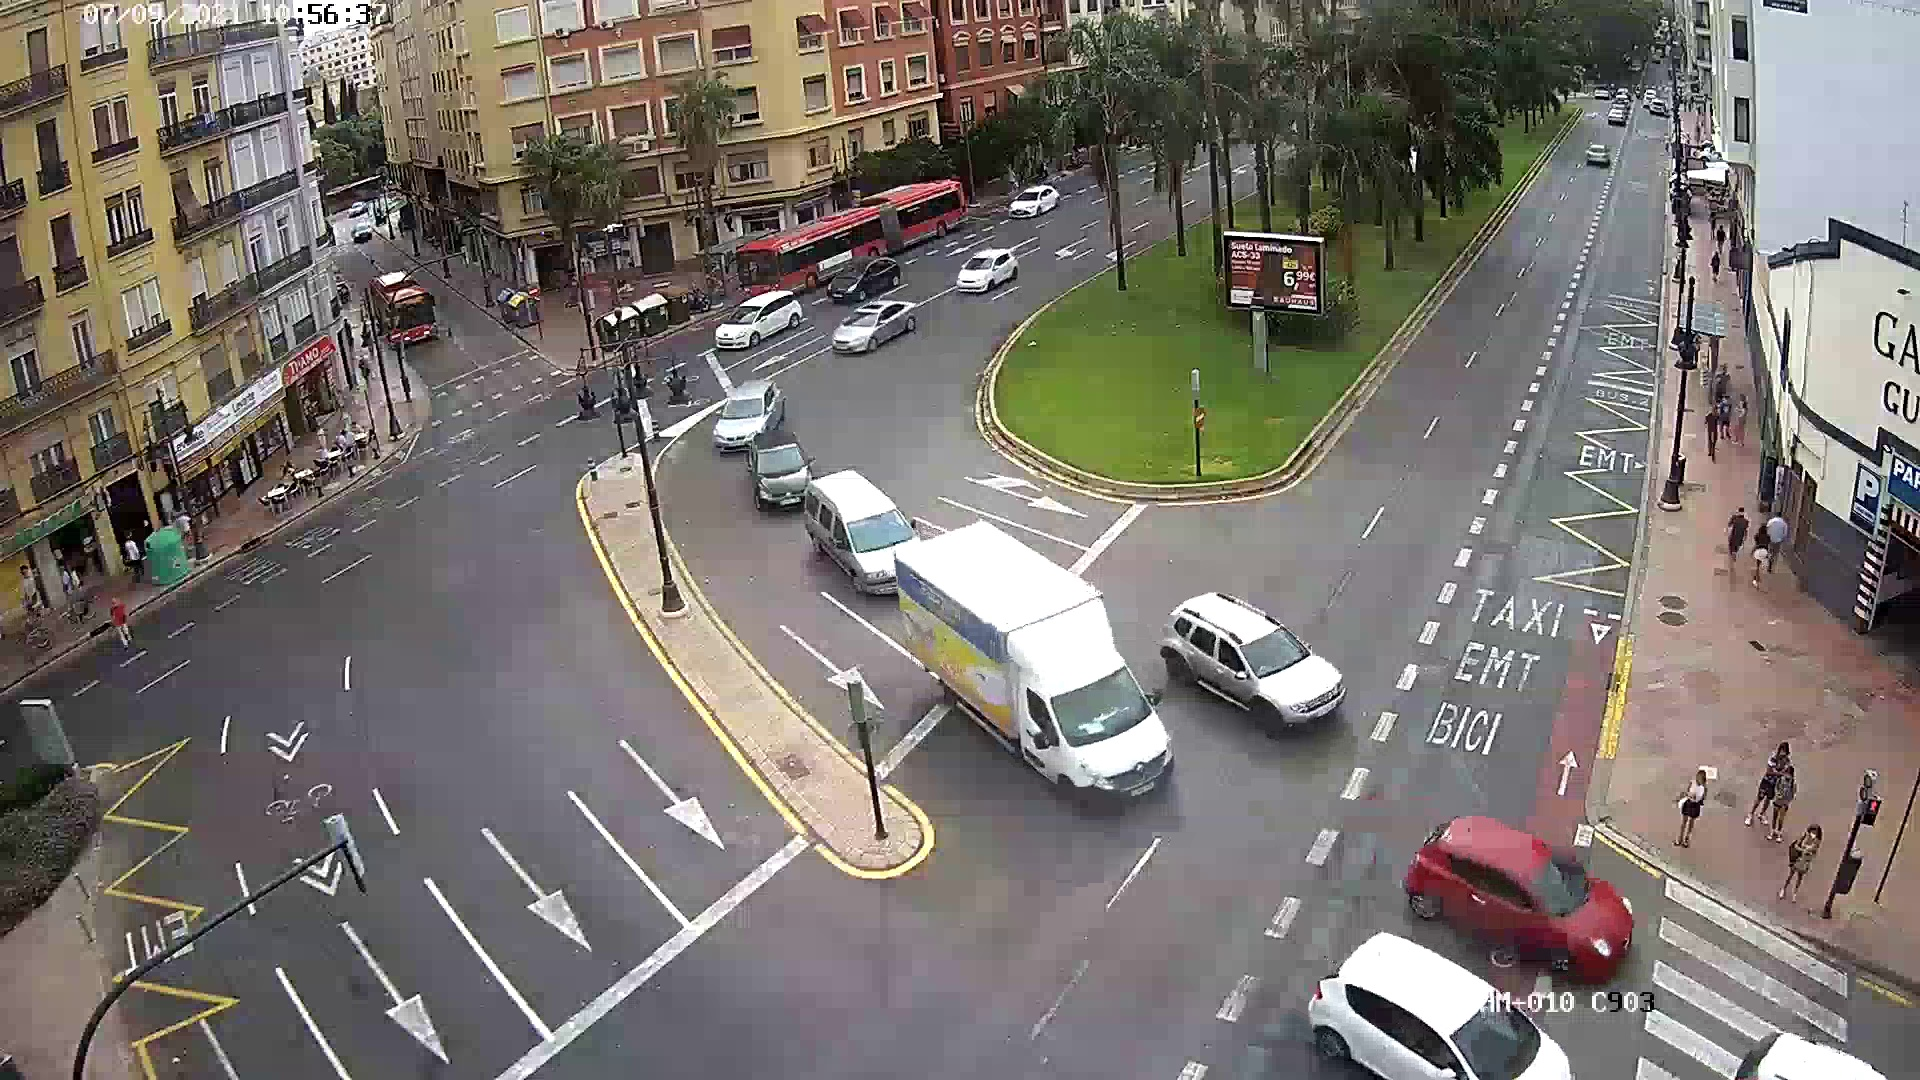Cars: (1403, 794, 1672, 975), (1296, 942, 1578, 1080), (1153, 556, 1342, 724), (796, 464, 920, 589), (737, 433, 822, 502), (709, 377, 778, 448), (825, 298, 918, 345)
